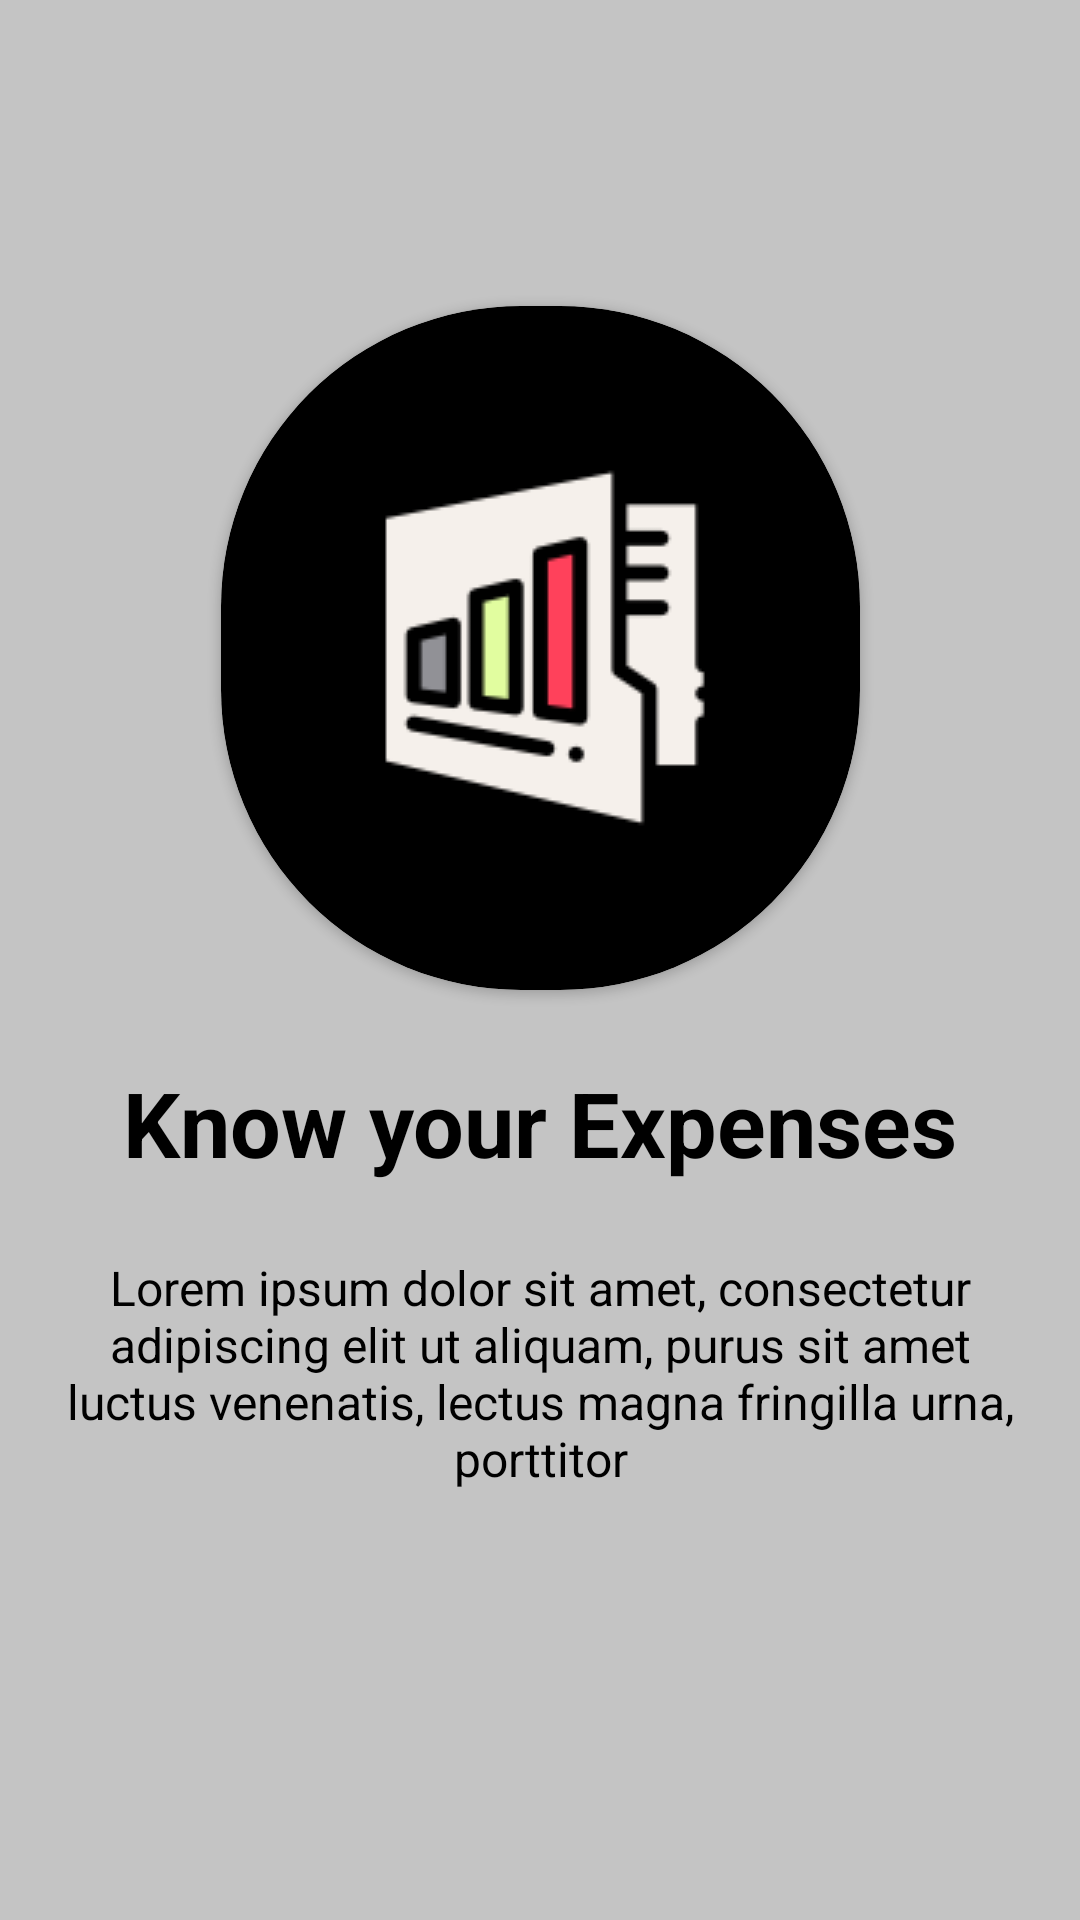

Icons on this 1080×1920 Android screen, each with its box as (x1, y1, x2, y2):
know your expenses: (385, 471, 705, 824)
